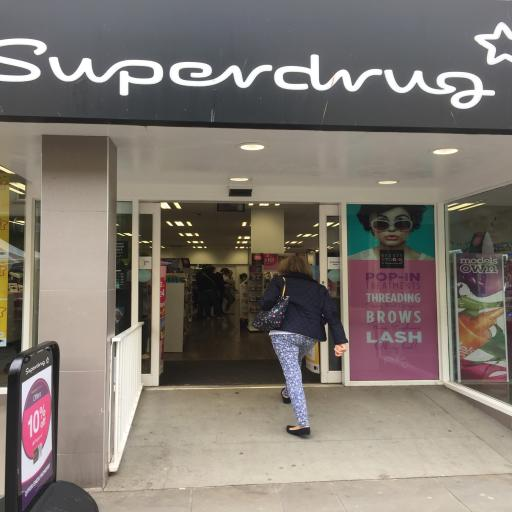ramp: (106, 384, 512, 486)
